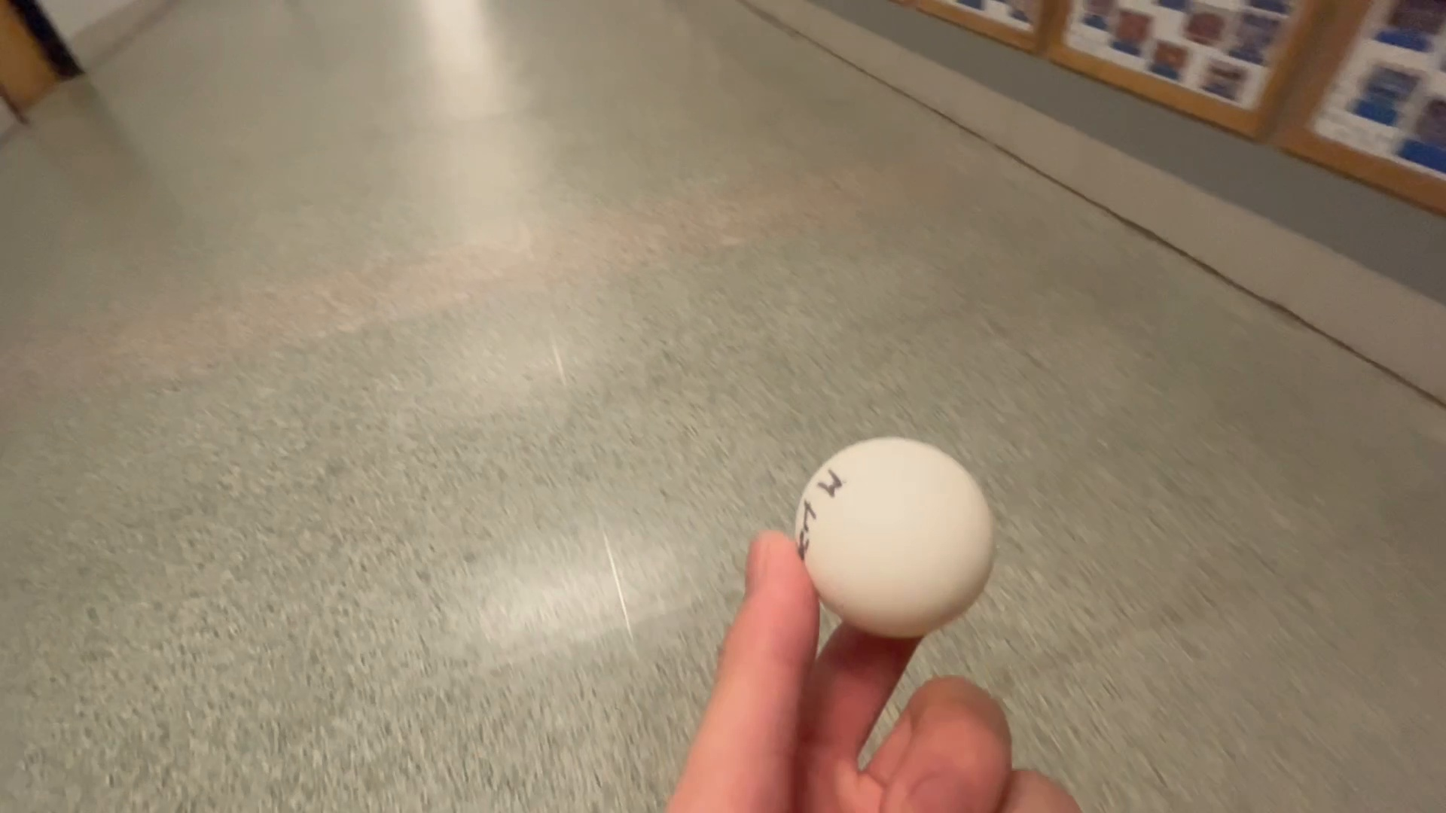Ball: (775, 439, 1006, 633)
